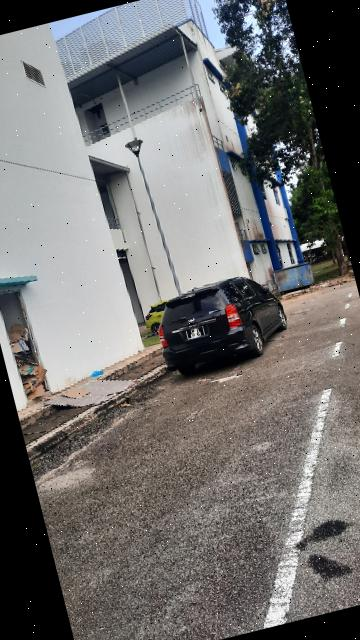License_Plate: (187, 326, 209, 342)
car: (149, 268, 295, 380)
